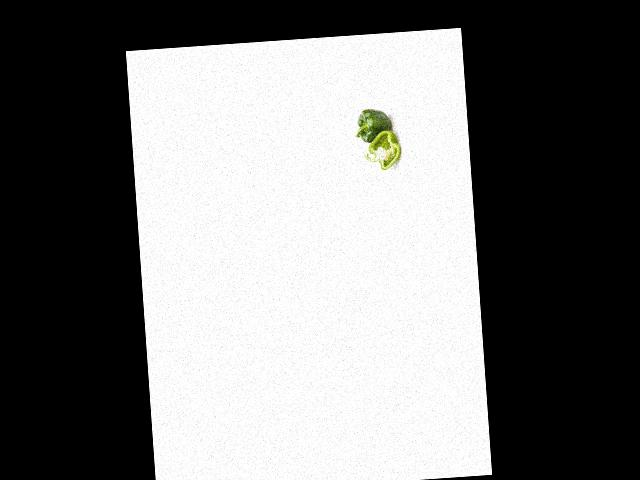bell_pepper: (360, 128, 401, 173)
